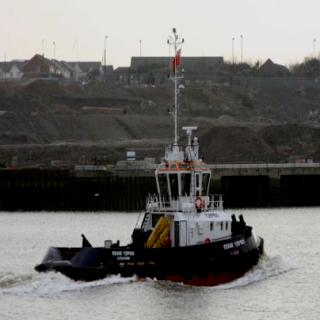Tug Boat: (32, 126, 268, 284)
